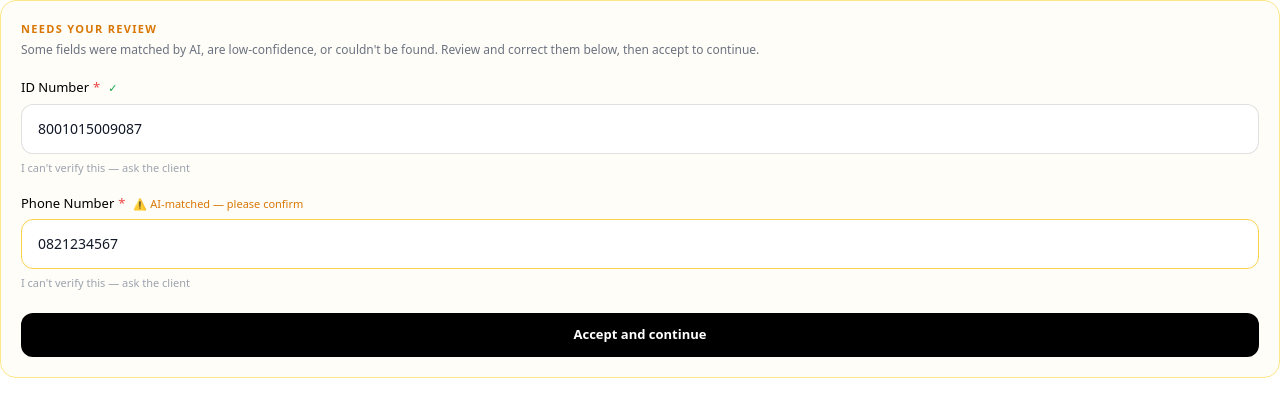
Scenario: PartialReviewPanel › blocks accept and shows an error when a required field is cleared
Clear the field showing "8001015009087" below "ID Number" at (640, 128), box x1=21 y1=104 x2=1259 y2=154
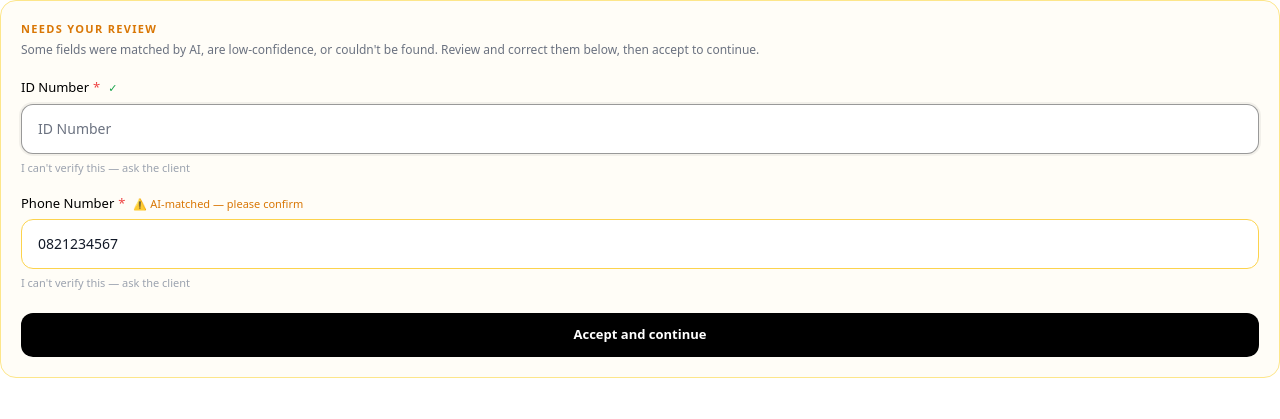
Click the button "Accept and continue" at (640, 335), box x1=21 y1=313 x2=1259 y2=356
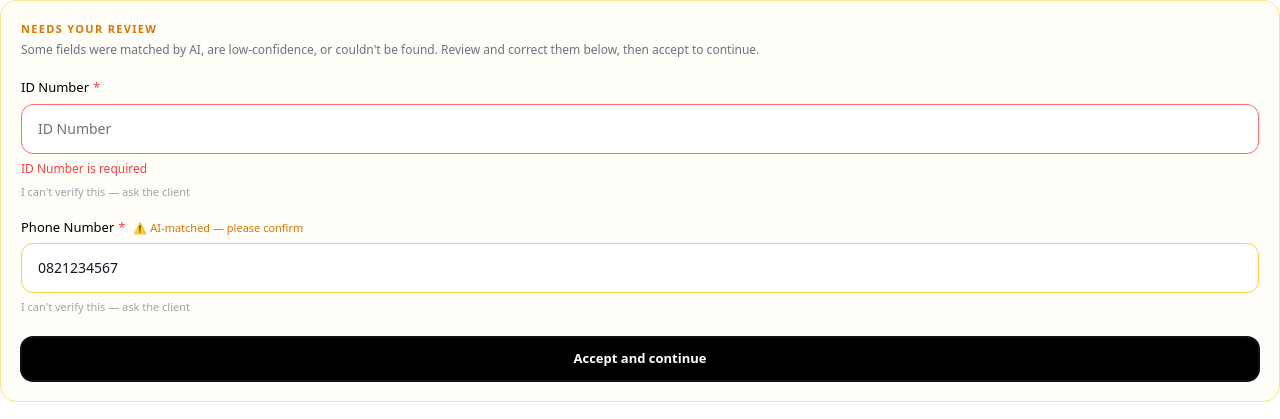
Result: the text "ID Number is required" is shown at x1=21 y1=160 x2=147 y2=176
